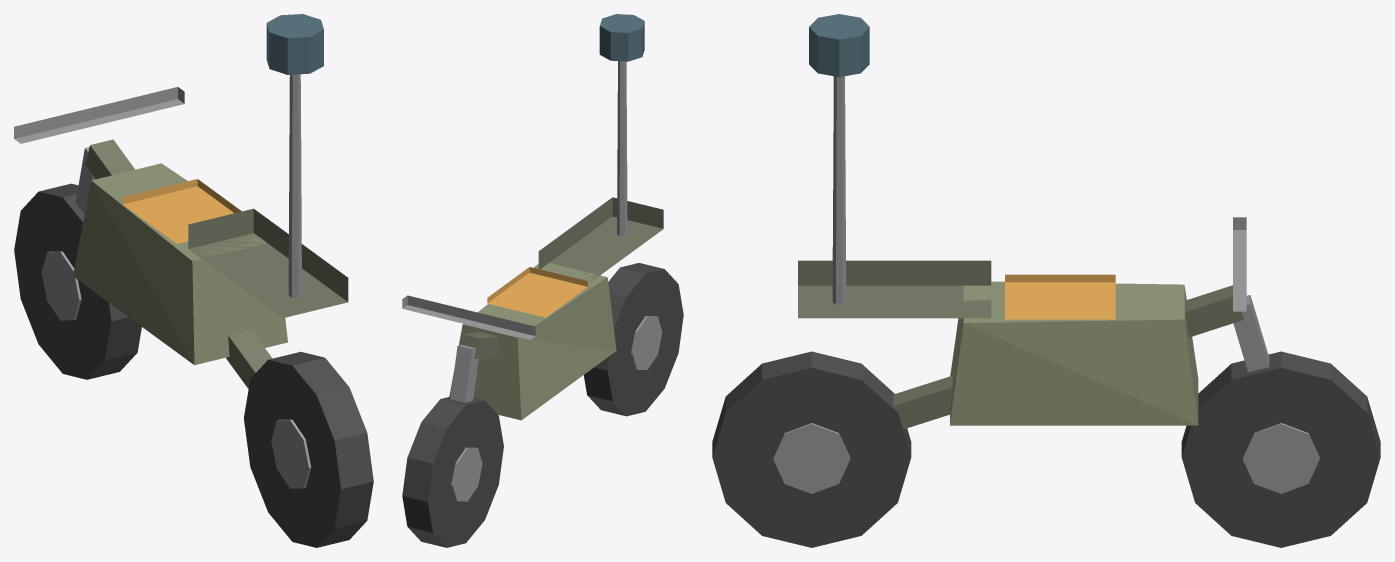
The model's file is mass_scout_bike.glb.
3 views of the same model, side by side, from view 1: azimuth 30°, elevation 25°; view 2: azimuth 150°, elevation 25°; view 3: azimuth 270°, elevation 25° (orthographic). The views are drawn at different scales.
Parts seen in each view (by area): view 1: mass_scout_bike; view 2: mass_scout_bike; view 3: mass_scout_bike.
Boxes of the visible parts, <box> form: mass_scout_bike: <box>14,14,373,547</box>; mass_scout_bike: <box>402,14,683,547</box>; mass_scout_bike: <box>712,14,1380,547</box>.
Size of the model in its own units: 0.7 by 2.05 by 2.42.
